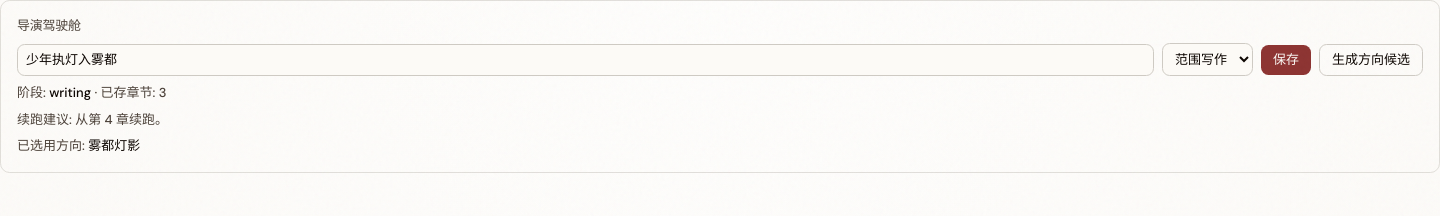
Test case: DirectorPanel 交互（478 号） › 加载回填灵感/运行模式/阶段/续跑建议，保存载荷 patch 包裹且 keywords 原样回传
Expected: the field with placeholder "一句话灵感…" holds "少年执灯入雾都", [17,44,1154,76]
Expected: the dropdown shows "范围写作", [1162,43,1253,76]
What coordinates should you click on to do the following:
click the button "保存"
I would click on:
 (1286, 60)
Its box is [1261,45,1311,75].
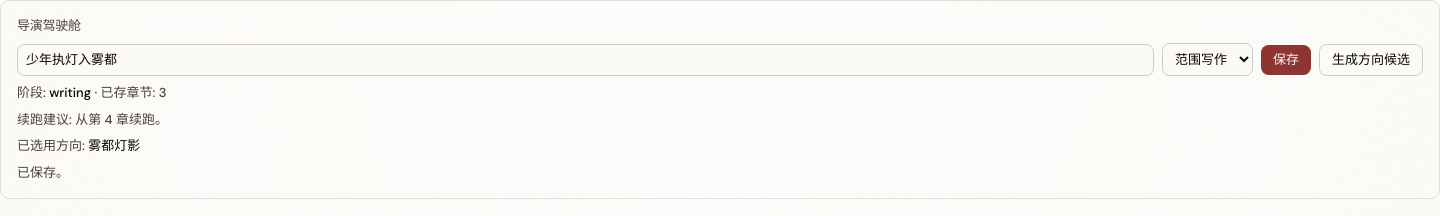
Expected: the text "已保存。" is shown, [17,164,69,181]
